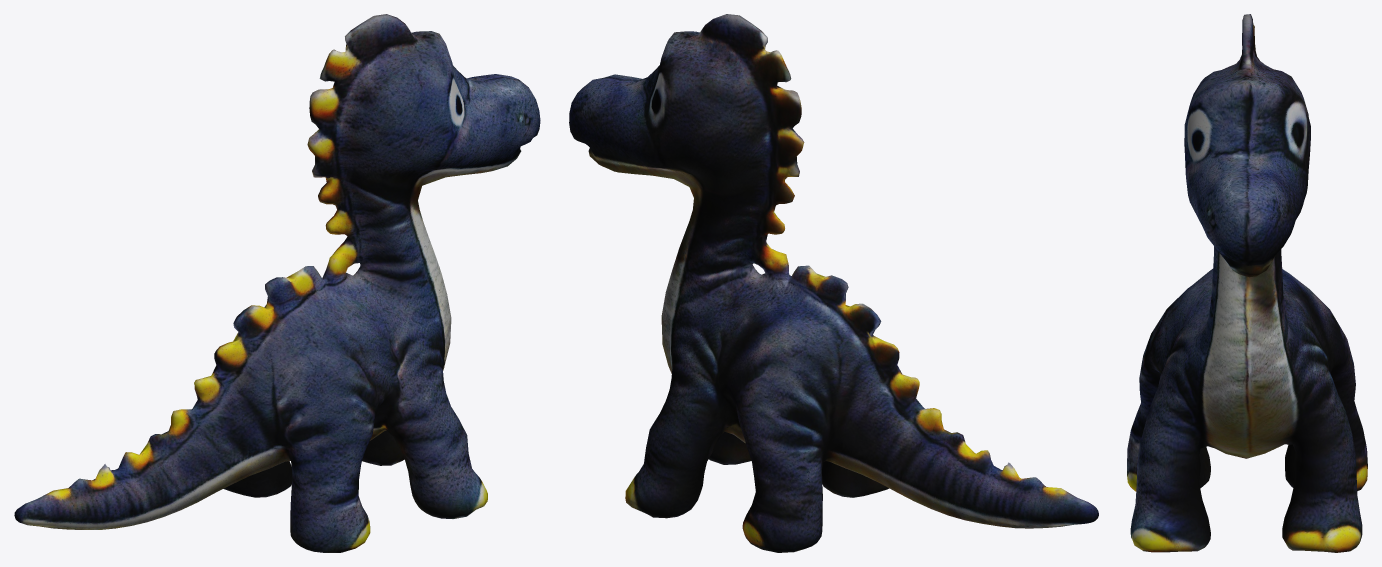
The model's file is dinosaur.fbx.
3 renders of one model, left to right at view 1: azimuth 30°, elevation 25°; view 2: azimuth 150°, elevation 25°; view 3: azimuth 270°, elevation 25°, orthographic. The views are drawn at different scales.
Visible parts, largest first — view 1: mesh; view 2: mesh; view 3: mesh.
Boxes of the visible parts, bbox=[...] form: mesh: bbox=[14, 14, 540, 552]; mesh: bbox=[569, 14, 1098, 552]; mesh: bbox=[1127, 14, 1367, 552].
Bounding box in the file's own units: 99.86 × 87.18 × 37.12.
1 material, 1 textured.
